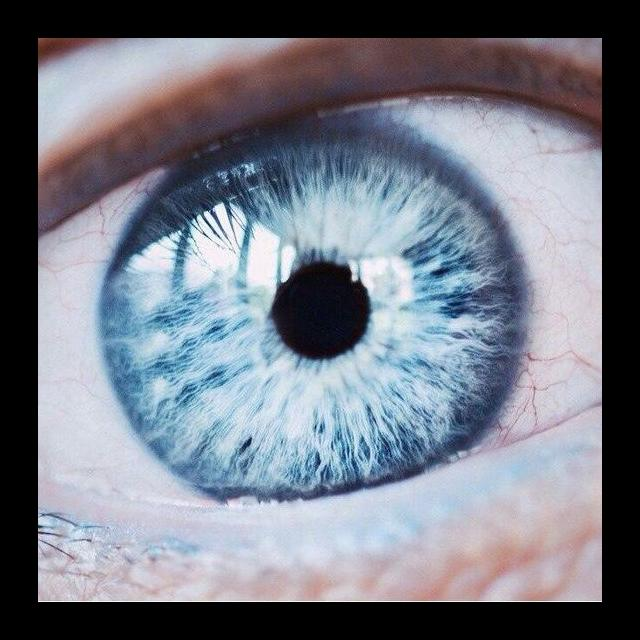eye: (40, 87, 602, 504)
iris: (102, 113, 529, 496)
